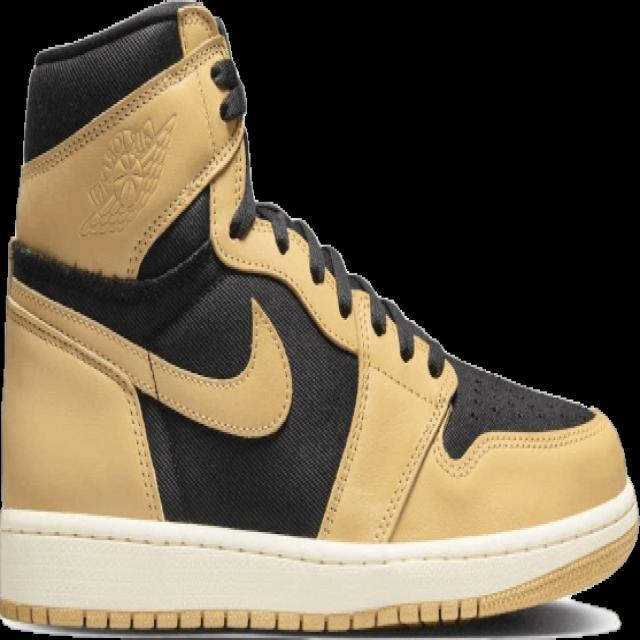J1_InsoleChar: (0, 0, 638, 636)
J1_ShoeLogo: (76, 112, 178, 238)
J1_StitchPattern: (1, 495, 637, 632), (254, 198, 598, 429), (16, 4, 252, 277), (6, 273, 294, 439), (6, 276, 167, 521), (255, 198, 449, 378), (20, 32, 229, 180), (122, 120, 249, 277), (371, 358, 458, 543), (316, 285, 374, 540), (4, 601, 487, 631), (254, 198, 355, 318), (432, 410, 610, 478), (348, 271, 448, 378)
